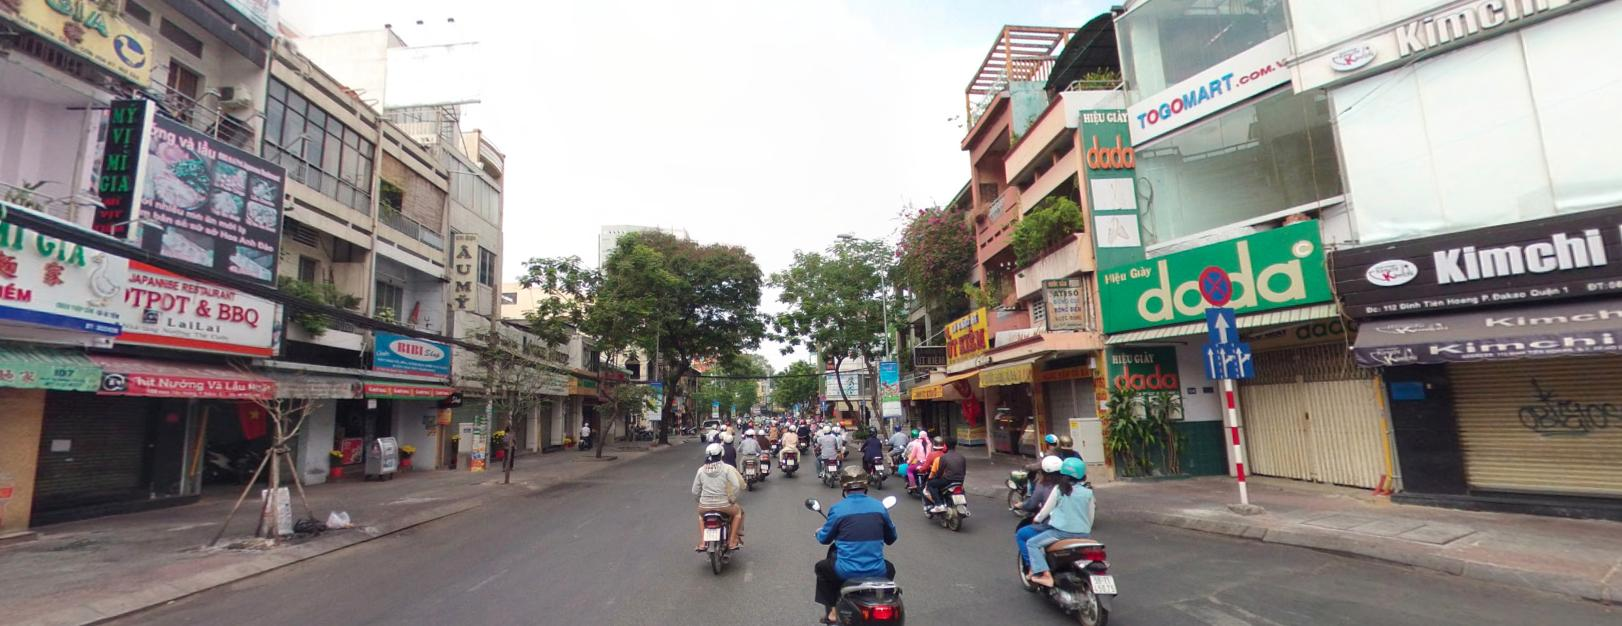Cam dung va do: (1199, 265, 1232, 304), (820, 393, 825, 398)
